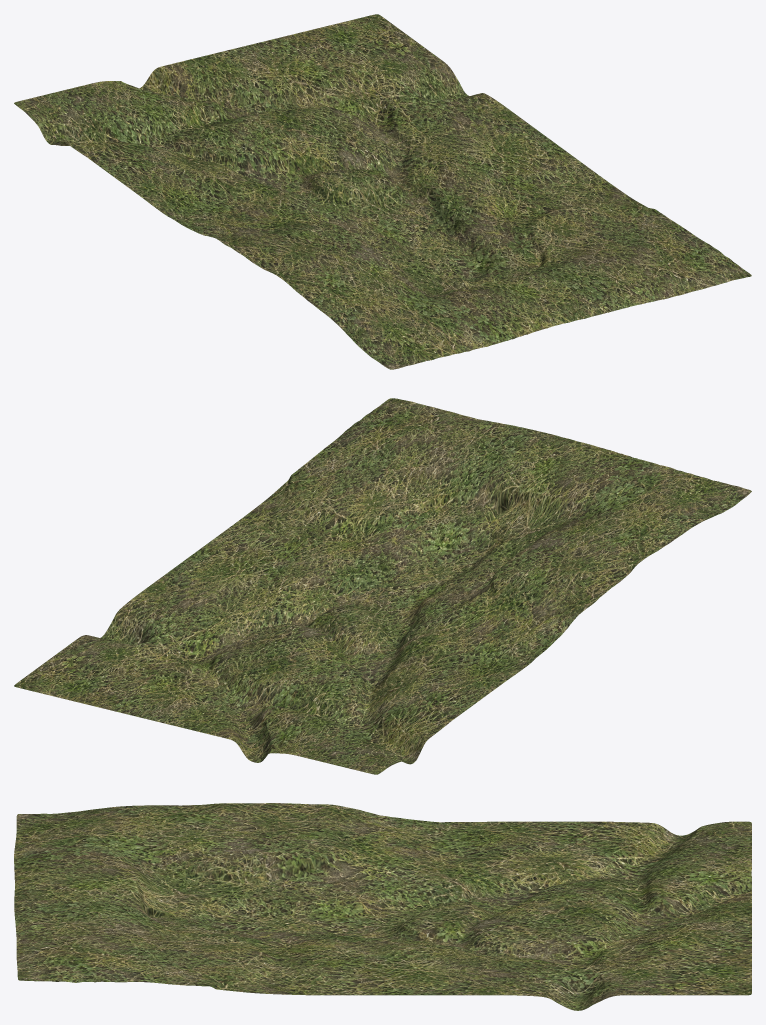
Rendered from Terreno.obj.
3 views of the same model, one above another, from view 1: azimuth 30°, elevation 25°; view 2: azimuth 150°, elevation 25°; view 3: azimuth 270°, elevation 25° (orthographic). The views are drawn at different scales.
Visible parts, largest first — view 1: Terreno; view 2: Terreno; view 3: Terreno.
Boxes of the visible parts, x1=… form: Terreno: x1=14, y1=14, x2=751, y2=369; Terreno: x1=14, y1=398, x2=751, y2=774; Terreno: x1=14, y1=803, x2=751, y2=1010.
Size of the model in its own units: 154 by 15.49 by 275.
1 material, 1 textured.
